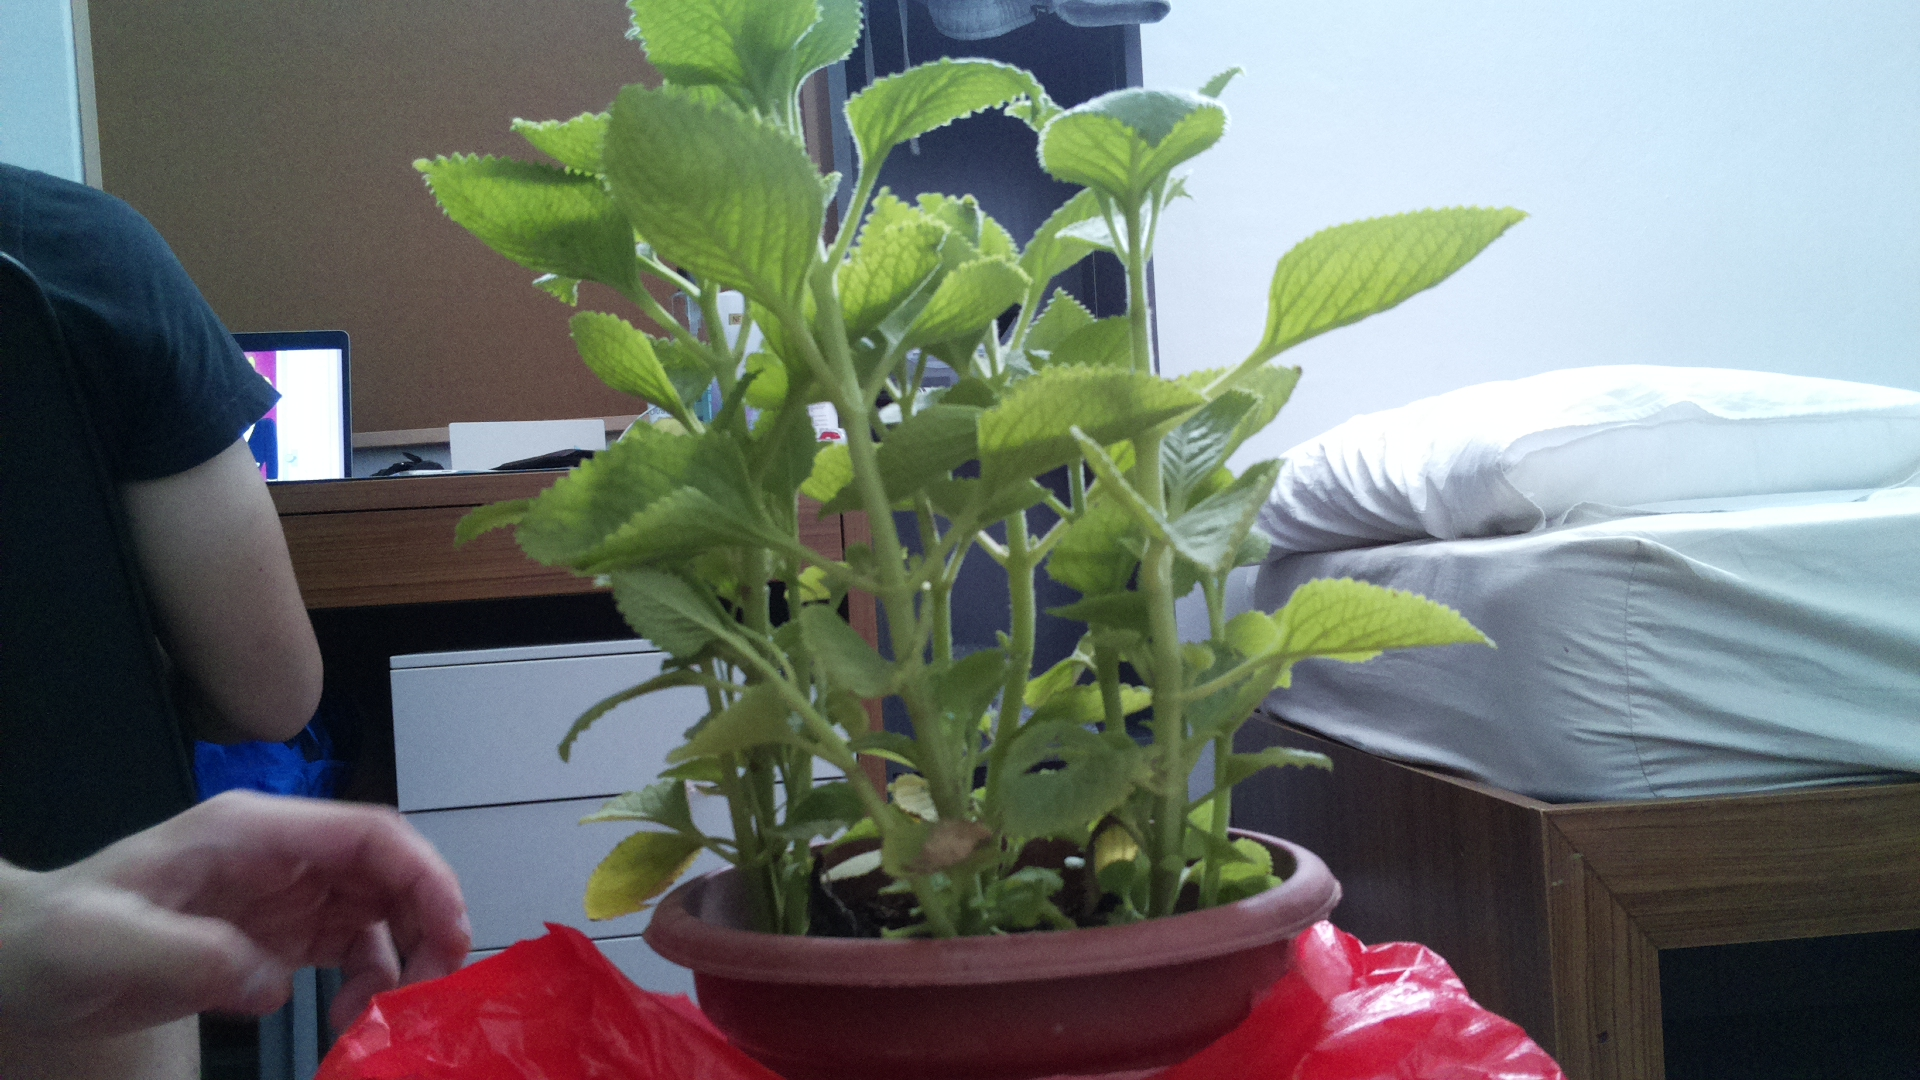leaf: (597, 71, 799, 334), (1229, 199, 1542, 367), (384, 154, 661, 311), (520, 422, 785, 567), (964, 361, 1208, 501), (845, 41, 1054, 181), (1244, 575, 1507, 671), (980, 719, 1151, 853), (845, 193, 976, 345), (553, 667, 728, 762), (617, 1, 872, 62), (568, 307, 704, 414), (800, 603, 905, 709), (595, 822, 702, 924), (615, 582, 723, 651), (588, 775, 696, 823)
